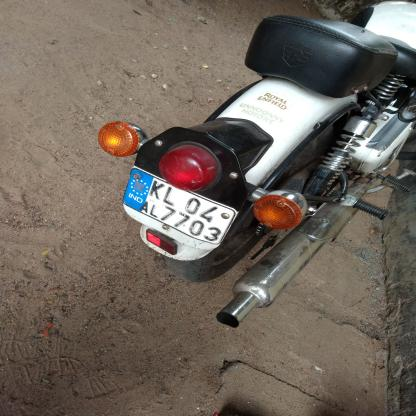Number_Plate_Detected: (123, 177, 238, 243)
